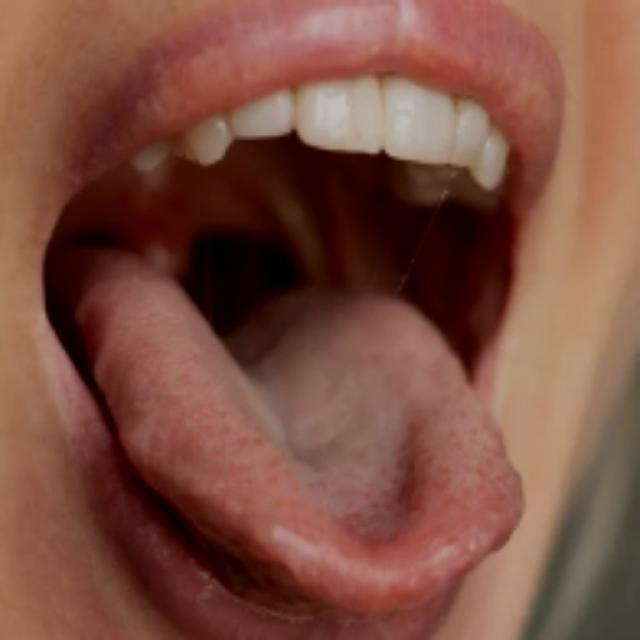processing_area: (52, 246, 535, 614)
